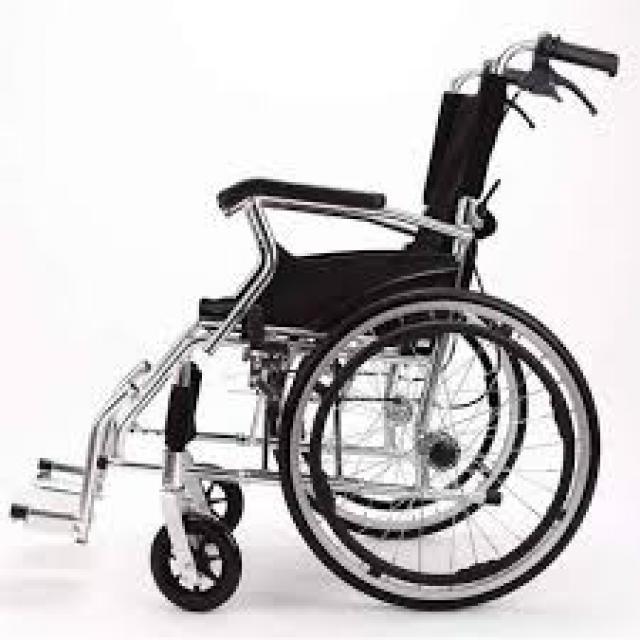wheelchairs: (23, 37, 619, 614)
